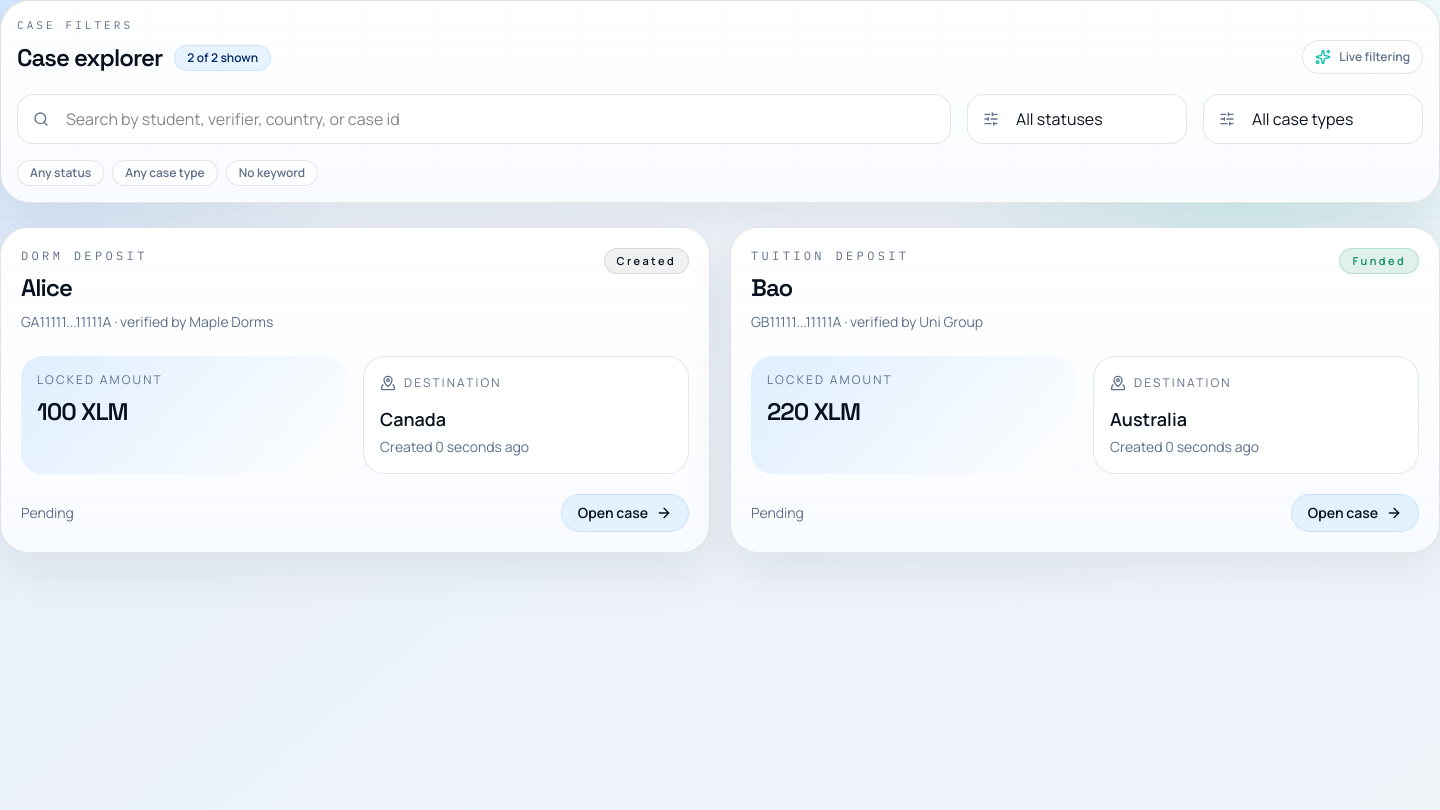
BondsListClient › filters bonds by search term
In the field with placeholder "Search by student, verifier, country, or case id": coordinates (484, 118) [17,94,951,144], type "Alice"
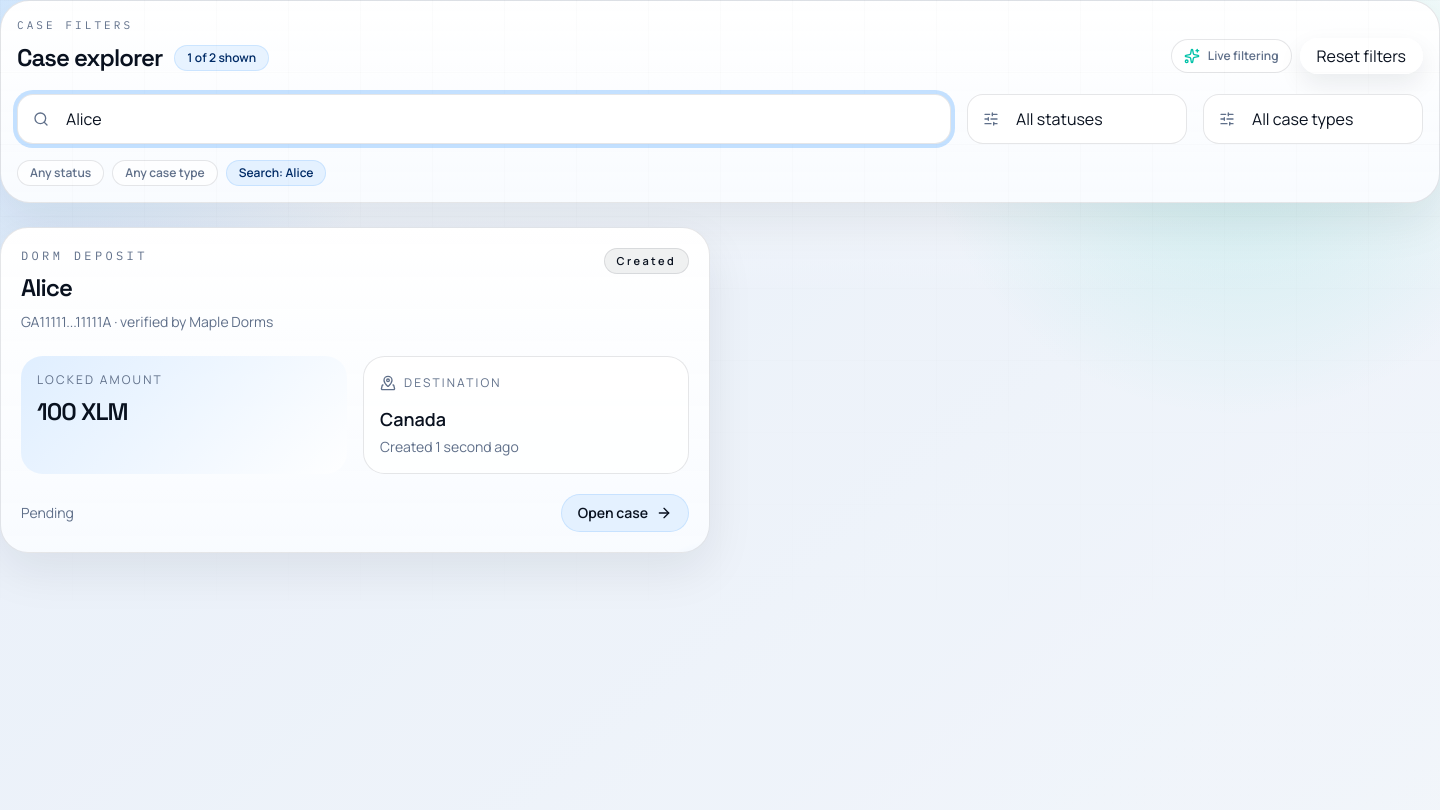
Expected: the heading "Alice" is shown, [21,272,72,302]
Expected: the heading "Bao" is gone
